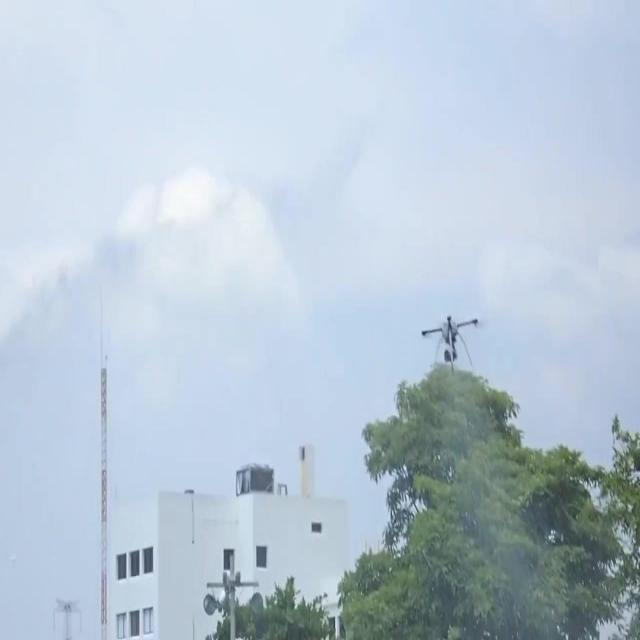UAV: (421, 316, 478, 374)
